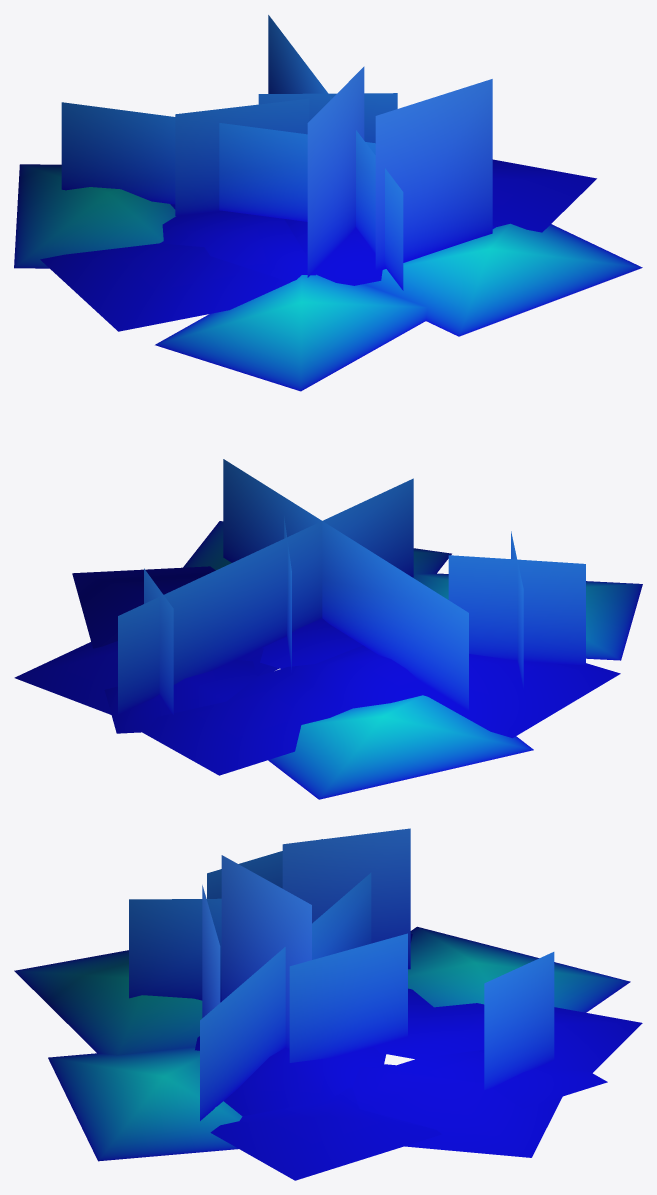
Rendered from SM_Env_Ground_Cover_02.gltf.
3 views of the same model, one above another, from view 1: azimuth 30°, elevation 25°; view 2: azimuth 150°, elevation 25°; view 3: azimuth 270°, elevation 25° (orthographic). The views are drawn at different scales.
Visible parts, largest first — view 1: SM_Env_Ground_Cover_02_LOD0; view 2: SM_Env_Ground_Cover_02_LOD0; view 3: SM_Env_Ground_Cover_02_LOD0.
Boxes of the visible parts, x1=… form: SM_Env_Ground_Cover_02_LOD0: x1=14, y1=15, x2=642, y2=391; SM_Env_Ground_Cover_02_LOD0: x1=14, y1=459, x2=642, y2=799; SM_Env_Ground_Cover_02_LOD0: x1=14, y1=828, x2=642, y2=1180.
Bounding box in the file's own units: 1.87 × 0.5704 × 1.91.
